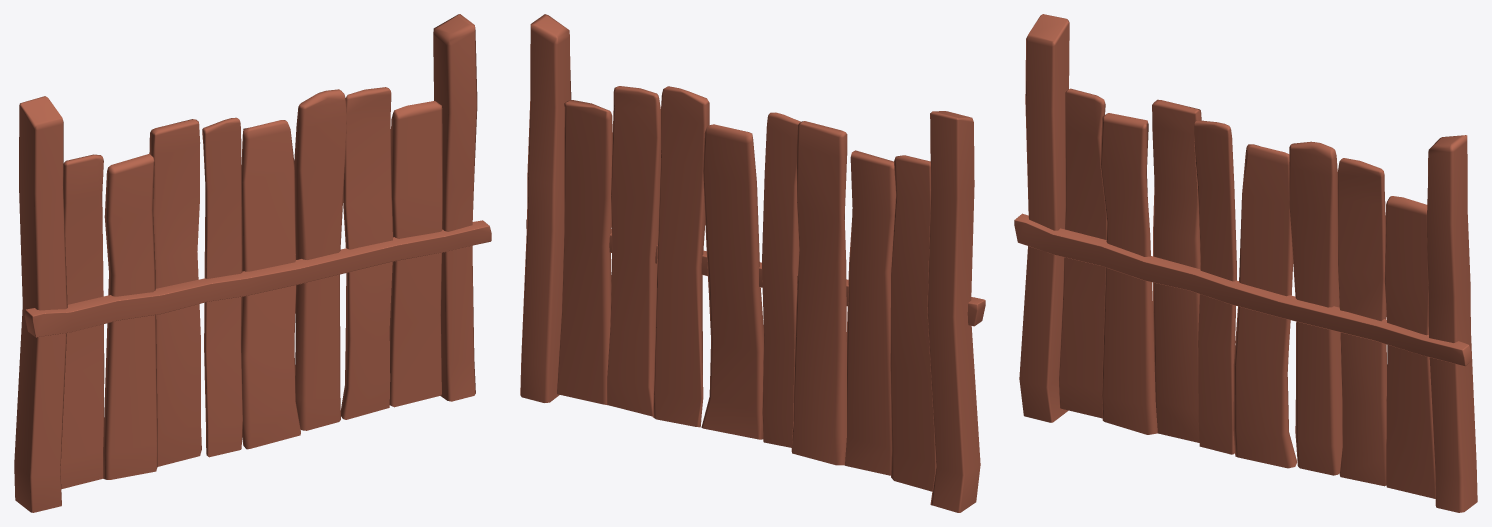
File: prop_fence_02.FBX
3 views of the same model, side by side, from view 1: azimuth 30°, elevation 25°; view 2: azimuth 150°, elevation 25°; view 3: azimuth 330°, elevation 25° (orthographic).
Parts seen in each view (by area): view 1: prop_fence_03; view 2: prop_fence_03; view 3: prop_fence_03.
Boxes of the visible parts, left/top/right/bottom form: prop_fence_03: left=14, top=14, right=491, bottom=512; prop_fence_03: left=520, top=14, right=985, bottom=512; prop_fence_03: left=1014, top=14, right=1477, bottom=512.
Size of the model in its own units: 283 by 234 by 25.18.
